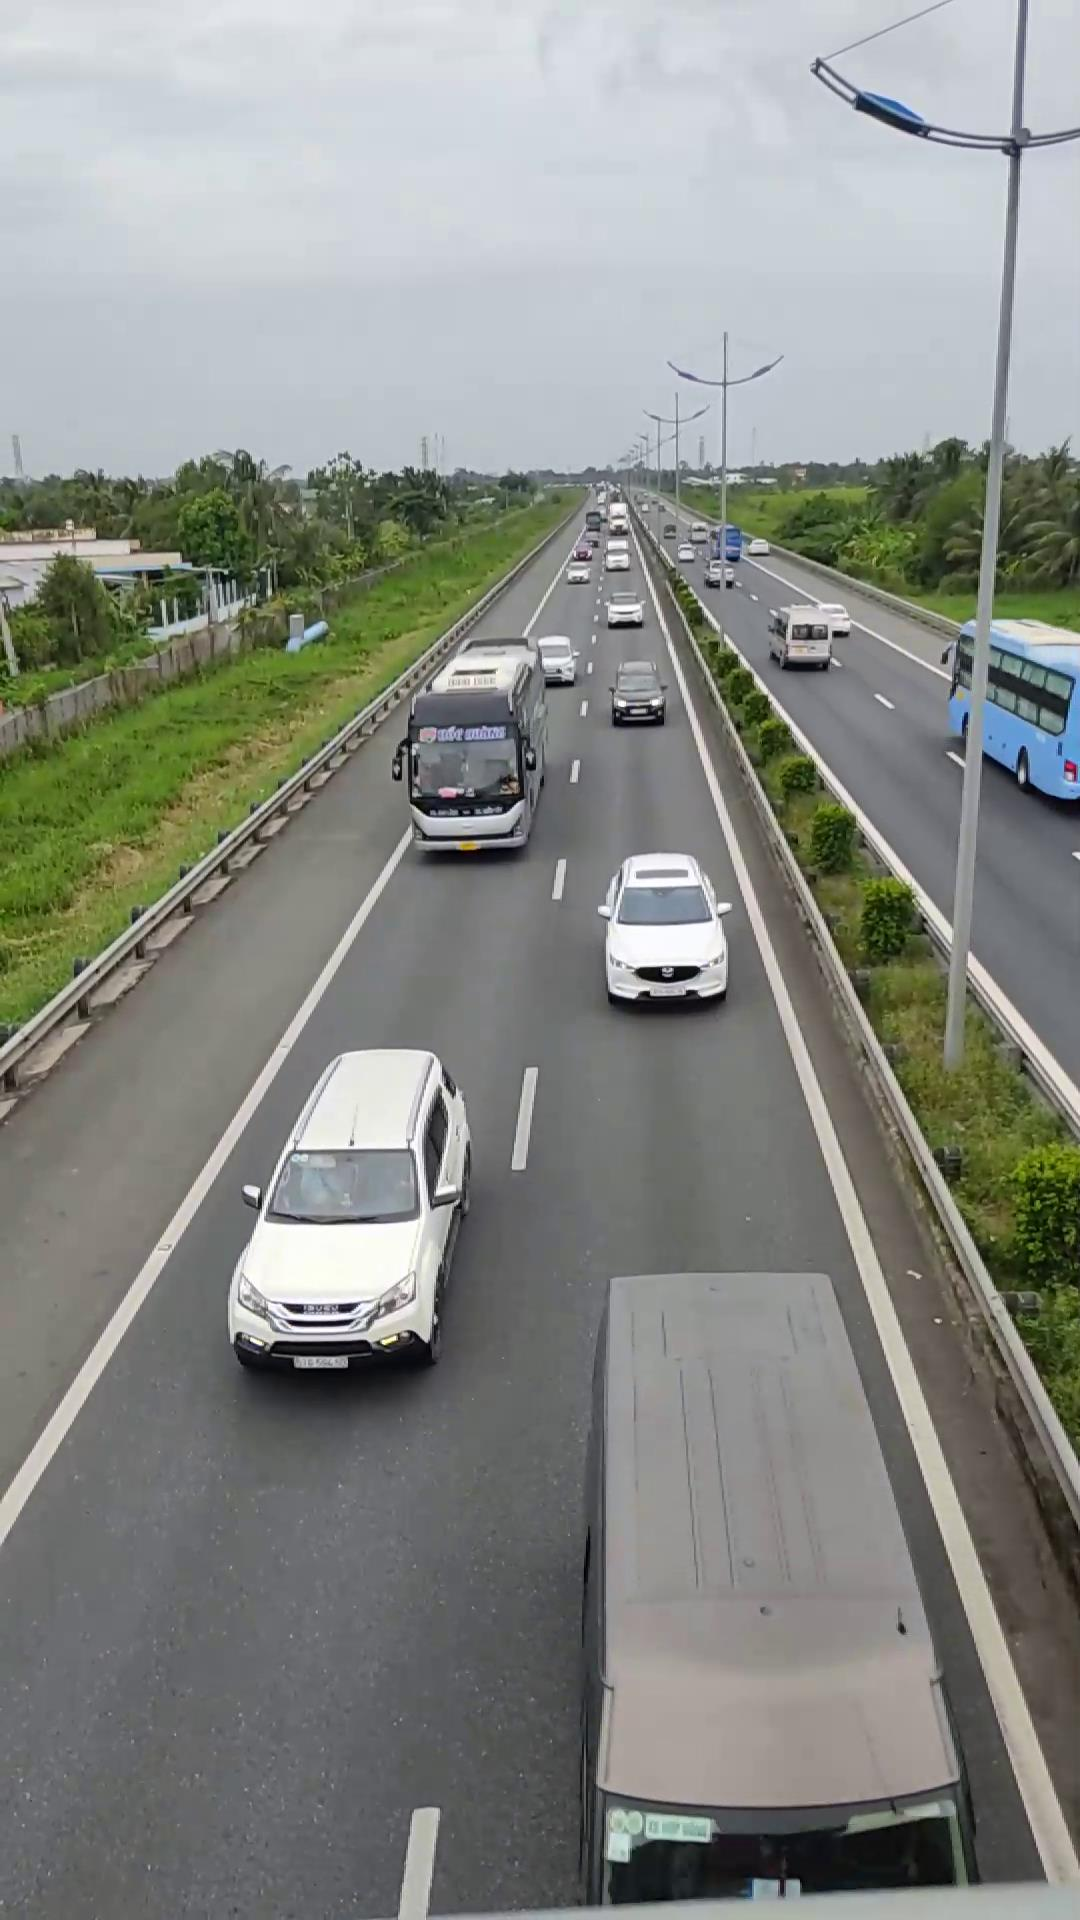bus: (400, 640, 547, 856)
car: (566, 1262, 980, 1899), (224, 1044, 473, 1374), (597, 851, 733, 1007)
